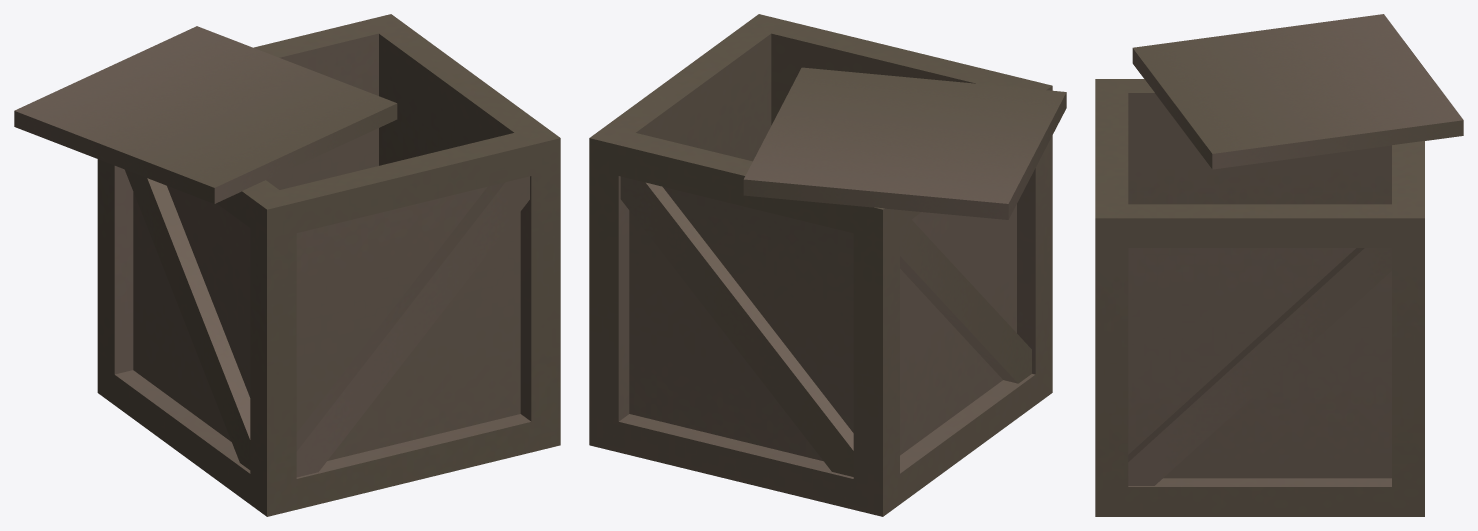
Rendered from Crate_2.fbx.
3 views of the same model, side by side, from view 1: azimuth 30°, elevation 25°; view 2: azimuth 150°, elevation 25°; view 3: azimuth 270°, elevation 25° (orthographic). The views are drawn at different scales.
Visible parts, largest first — view 1: pCube777; view 2: pCube777; view 3: pCube777.
Boxes of the visible parts, bbox=[...] form: pCube777: bbox=[14, 14, 560, 516]; pCube777: bbox=[589, 14, 1066, 516]; pCube777: bbox=[1095, 14, 1463, 516].
Bounding box in the file's own units: 81.35 × 63.08 × 67.08.
